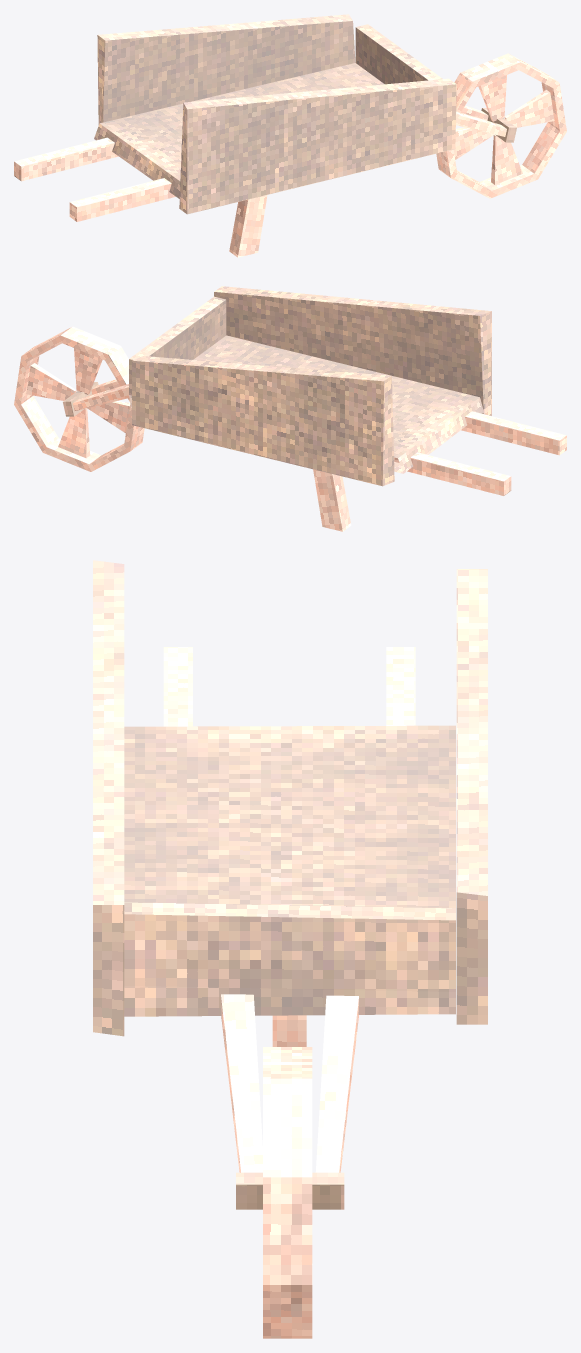
The model's file is Wheelbarrow.glb.
3 views of the same model, one above another, from view 1: azimuth 30°, elevation 25°; view 2: azimuth 150°, elevation 25°; view 3: azimuth 270°, elevation 25° (orthographic). The views are drawn at different scales.
Visible parts, largest first — view 1: Wheelbarrow; view 2: Wheelbarrow; view 3: Wheelbarrow.
Part boxes in pixels (x1,y1,x2,y2): Wheelbarrow: (14, 14, 566, 257); Wheelbarrow: (14, 286, 566, 531); Wheelbarrow: (93, 560, 487, 1338).
Bounding box in the file's own units: 6.36 × 2.42 × 2.11.
